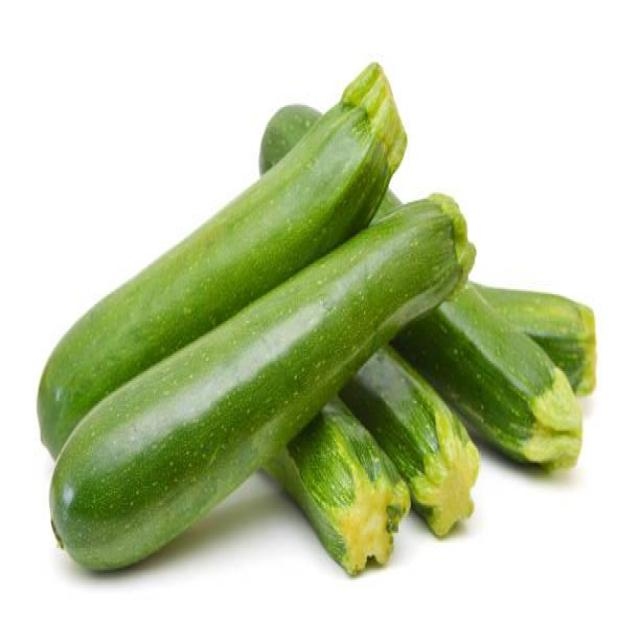Courgette: (50, 204, 459, 568), (39, 63, 406, 444), (394, 284, 584, 467), (260, 105, 321, 174)
